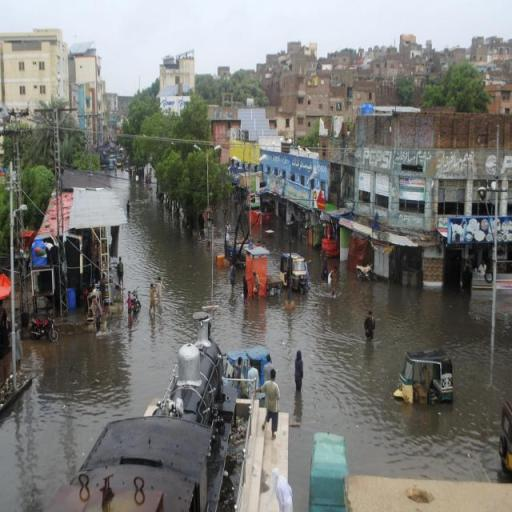flood: (214, 237, 512, 510), (0, 171, 210, 512), (262, 217, 289, 274), (212, 204, 225, 254), (227, 202, 237, 244), (250, 227, 271, 242), (242, 218, 249, 234), (237, 230, 244, 244)
house: (347, 144, 512, 228), (84, 418, 205, 512), (2, 27, 66, 117), (256, 149, 338, 209), (306, 429, 352, 512), (280, 72, 332, 122), (74, 50, 108, 117), (160, 54, 195, 112)
